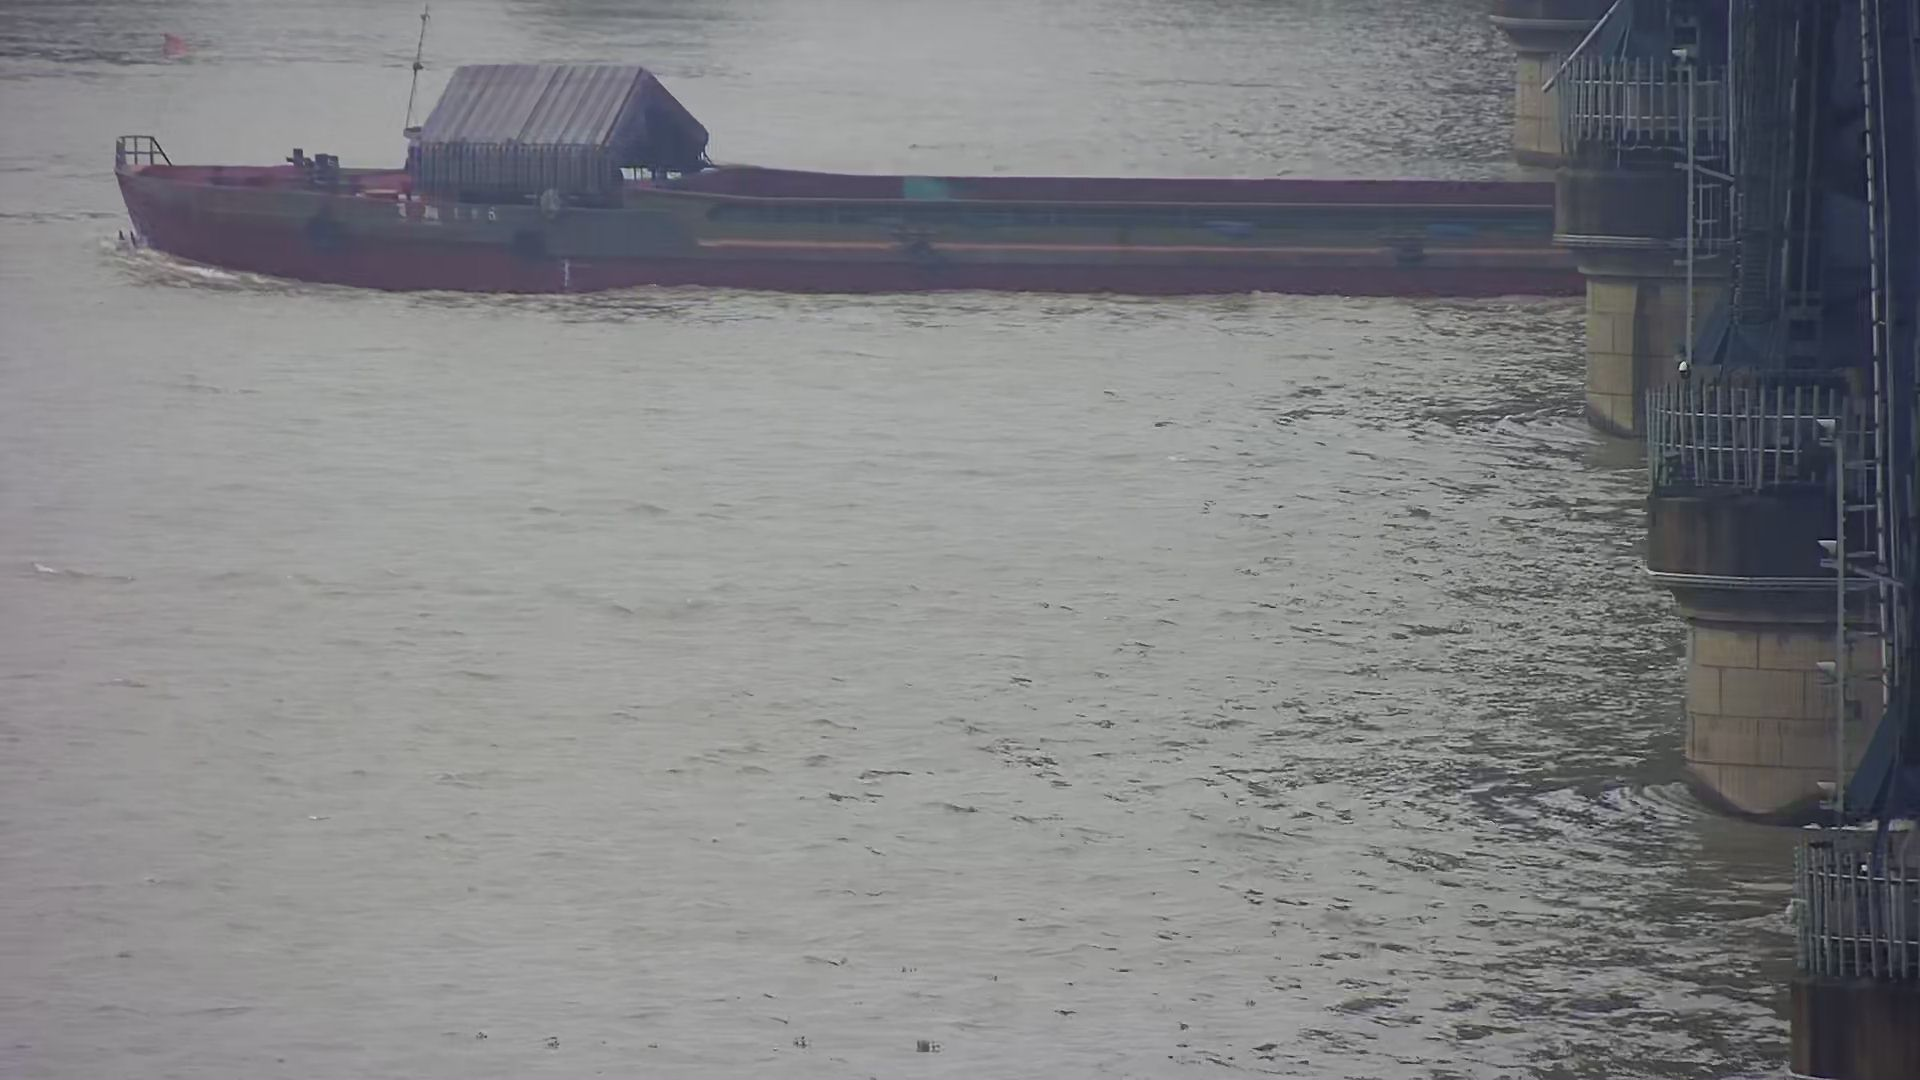bridge: (1474, 3, 1920, 1079)
ship: (71, 4, 1589, 313)
